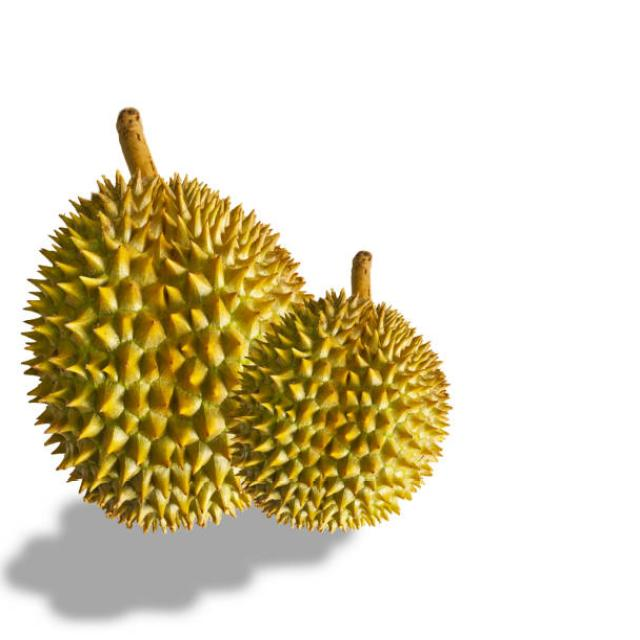mature: (26, 174, 303, 531), (229, 291, 449, 531)
